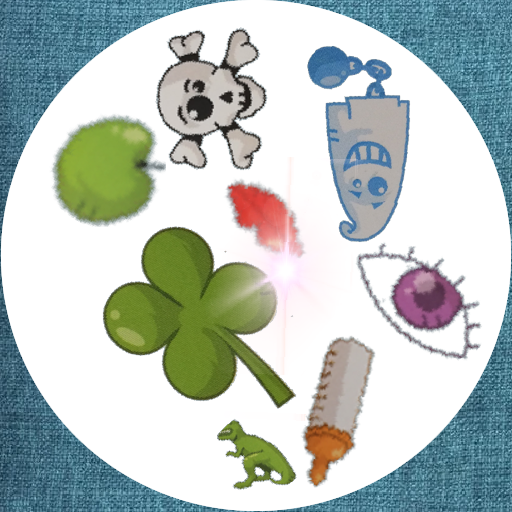apple_icon: (43, 104, 166, 227)
bottle_icon: (256, 333, 412, 489)
cloverleaf_icon: (82, 225, 297, 440)
dino_icon: (217, 410, 303, 496)
eye_icon: (343, 225, 495, 377)
ghost_icon: (255, 40, 463, 248)
lips_icon: (219, 164, 322, 267)
skull_icon: (126, 12, 293, 179)
